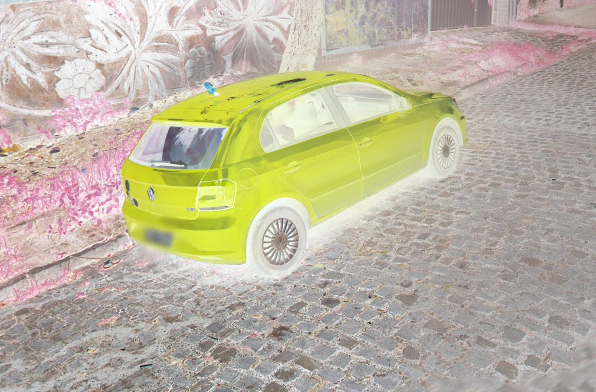car: (117, 69, 469, 277)
